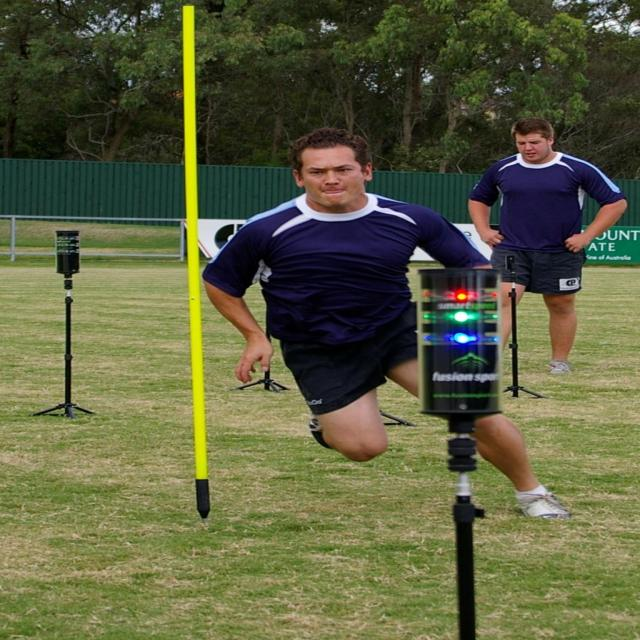Face: (301, 145, 372, 213), (514, 127, 555, 166)
